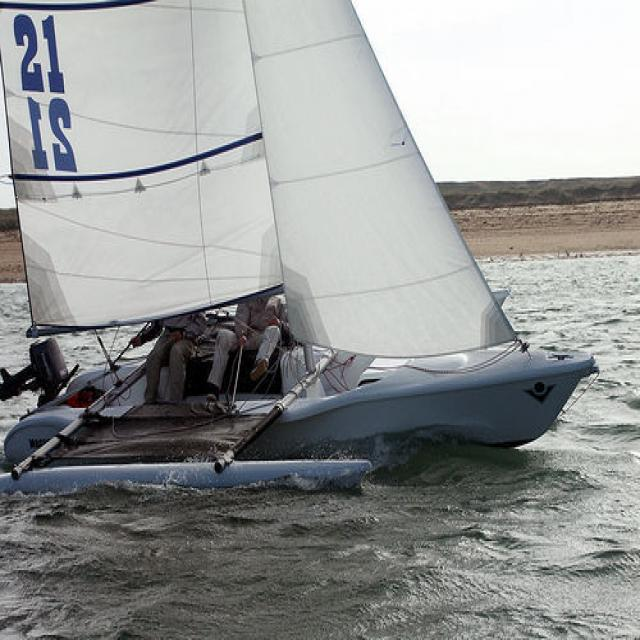Ship: (1, 1, 594, 486)
